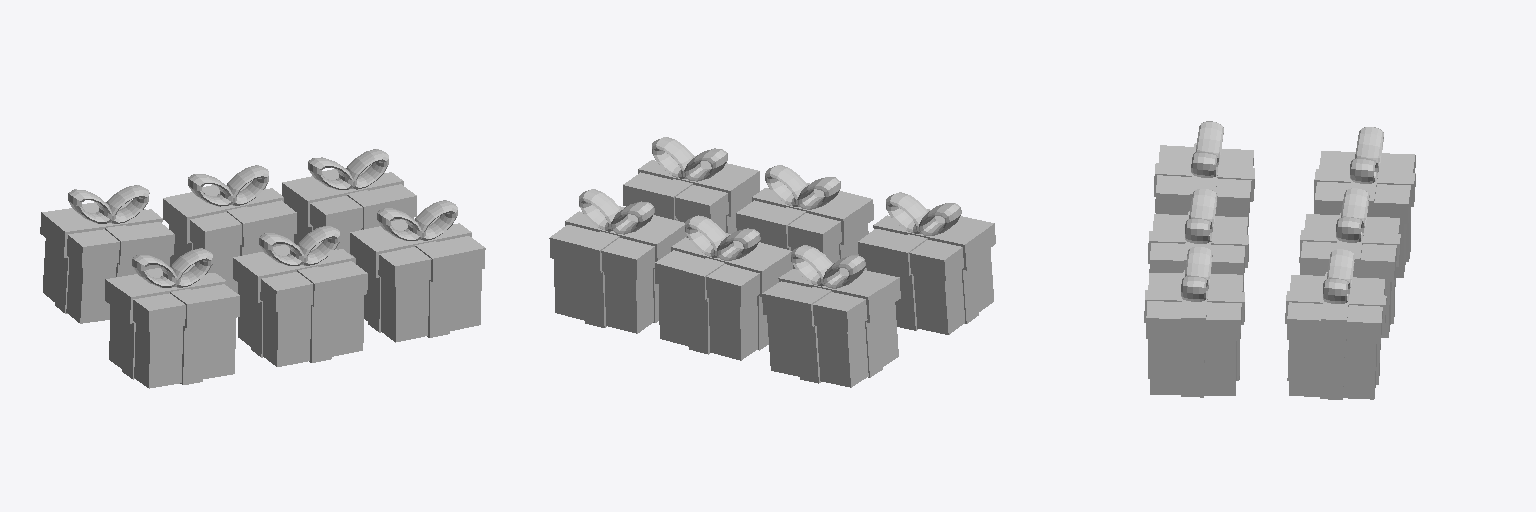
The model's file is gift.obj.
3 renders of one model, left to right at view 1: azimuth 30°, elevation 25°; view 2: azimuth 150°, elevation 25°; view 3: azimuth 270°, elevation 25°, orthographic.
Visible parts, largest first — view 1: group[number redacted], group[number redacted], group[number redacted], group[number redacted], group[number redacted], group[number redacted]; view 2: group[number redacted], group[number redacted], group[number redacted], group[number redacted], group[number redacted], group[number redacted]; view 3: group[number redacted], group[number redacted], group[number redacted], group[number redacted], group[number redacted], group[number redacted].
Boxes of the visible parts, box(x1,y1,x2,y2) form: group[number redacted]: box(105, 248, 239, 388); group[number redacted]: box(233, 226, 367, 366); group[number redacted]: box(350, 200, 485, 342); group[number redacted]: box(40, 185, 174, 323); group[number redacted]: box(163, 165, 296, 293); group[number redacted]: box(282, 149, 416, 263); group[number redacted]: box(762, 245, 900, 387); group[number redacted]: box(655, 215, 792, 360); group[number redacted]: box(549, 189, 686, 333); group[number redacted]: box(858, 192, 995, 334); group[number redacted]: box(736, 165, 873, 268); group[number redacted]: box(623, 137, 759, 237); group[number redacted]: box(1144, 247, 1244, 397); group[number redacted]: box(1285, 249, 1386, 399); group[number redacted]: box(1314, 127, 1415, 277); group[number redacted]: box(1154, 121, 1254, 226); group[number redacted]: box(1299, 188, 1400, 337); group[number redacted]: box(1148, 189, 1248, 291).
Size of the model in its own units: 1.37 by 0.4937 by 0.9493.